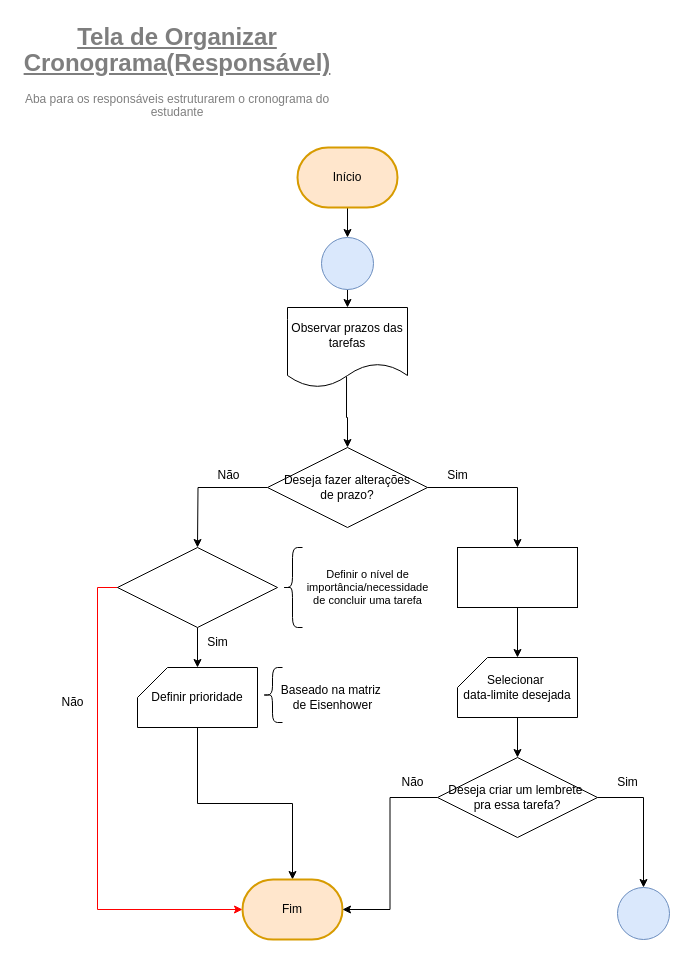
Some shapes in this 687 by 957 pixel diagram are drawn without their labels. The shapes that lost their labels are listed below. From the top down, each one's box as (x1, y1, x2, y2) in pixels, then its label:
(320, 236, 374, 290): OC
(116, 546, 278, 628): Deseja adicionar algum nível de prioridade na tarefa?
(456, 546, 578, 608): Abrir calendário
(616, 886, 670, 940): CL
